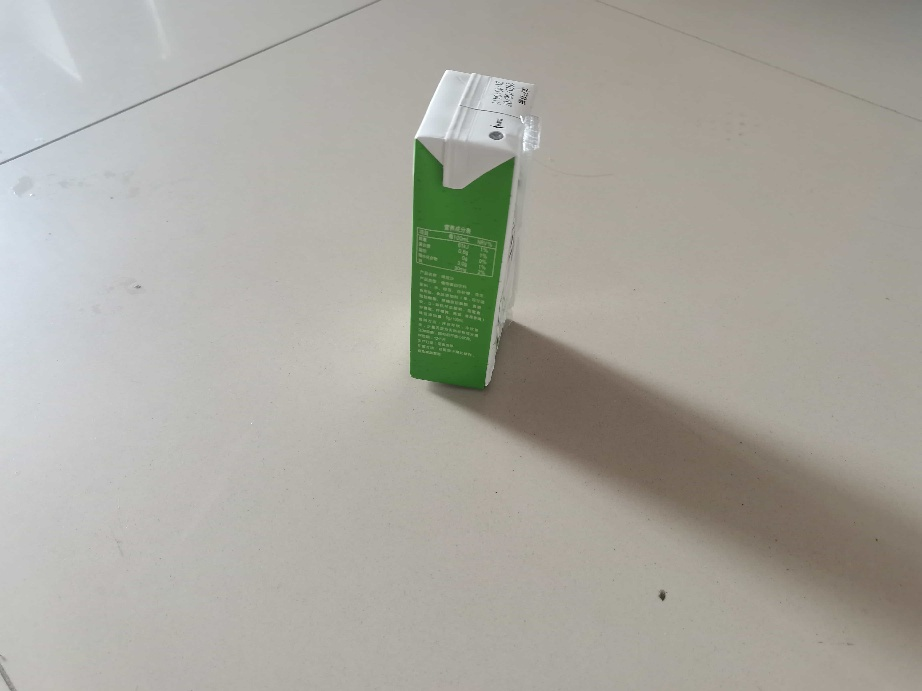milk box: (399, 60, 544, 398)
